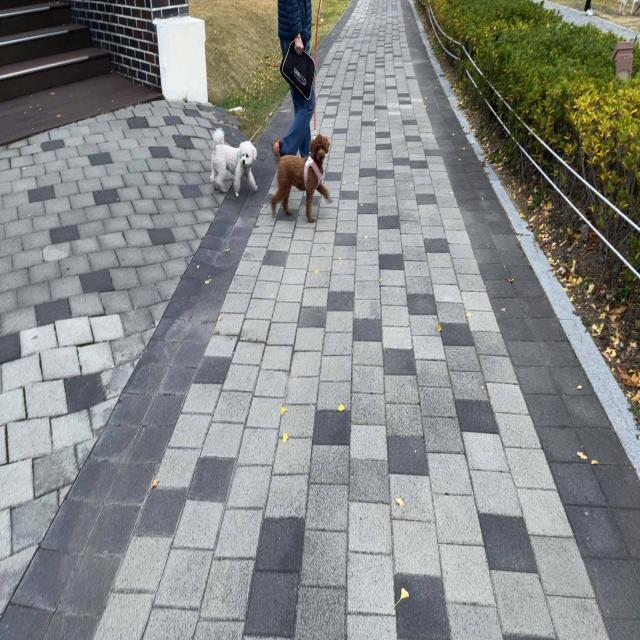Leashed_Dog: (209, 2, 334, 198), (271, 0, 333, 225)
